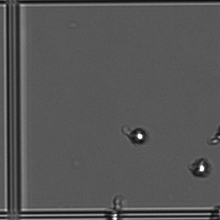Living Cell: (189, 156, 212, 178), (127, 126, 150, 146)
